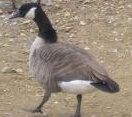goose: (7, 1, 121, 117)
